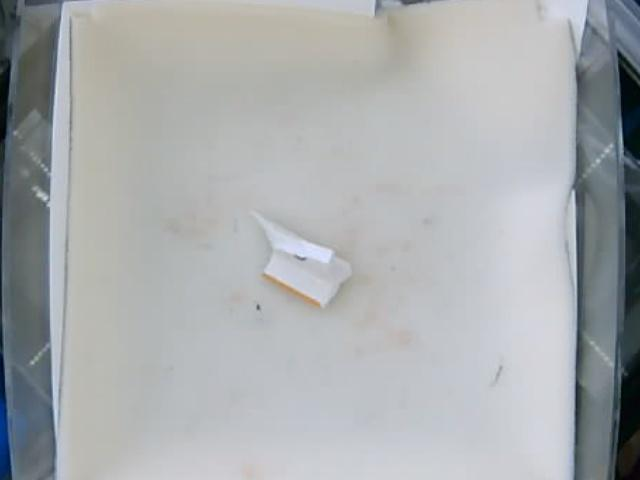China: (247, 208, 351, 308)
